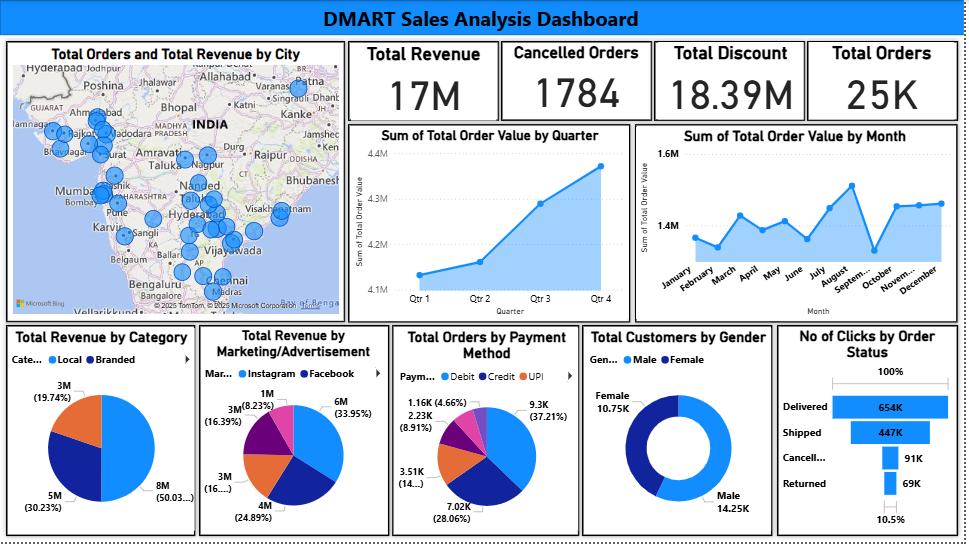

The dashboard page shown, as its layout file describes it:
{"tool":"powerbi","page":{"name":"Page 1","canvas":[1280,720],"ordinal":0},"visuals":[{"type":"shape","box":[0,0,1280.3,46.7],"z":0},{"type":"textbox","box":[42.5,0,1192.5,46.7],"z":1000},{"type":"shape","box":[0,46.7,466.6,389.7],"z":2000},{"type":"shape","box":[454.2,156.4,391.1,279.9],"z":3000},{"type":"shape","box":[835.7,156.4,444.6,279.9],"z":4000},{"type":"shape","box":[454.2,46.7,216.8,122.1],"z":5000},{"type":"shape","box":[0,424,267.6,296.4],"z":6000},{"type":"shape","box":[657.3,46.7,216.8,122.1],"z":7000},{"type":"shape","box":[860.4,46.7,216.8,122.1],"z":8000},{"type":"shape","box":[1063.5,46.7,216.8,122.1],"z":9000},{"type":"shape","box":[513.2,424,264.8,296.4],"z":10000},{"type":"shape","box":[765.7,424,269,296.4],"z":11000},{"type":"shape","box":[1023.7,424,256.6,296.4],"z":12000},{"type":"shape","box":[256.6,424,269,296.4],"z":13000},{"type":"card","title":"Total Revenue","fields":{"Values":["Sum(Dmart+Dataset_Tableau.Total Order Value)"]},"box":[466.5,56.9,193.5,102.7],"z":14000},{"type":"card","title":"Cancelled Orders","fields":{"Values":["CountNonNull(Dmart+Dataset_Tableau.Cancellation Date)"]},"box":[670.9,57,189.5,100],"z":15000},{"type":"card","title":"Total Discount","fields":{"Values":["Sum(Dmart+Dataset_Tableau.Discount Price)"]},"box":[874.1,56.3,193.5,102.9],"z":16000},{"type":"card","title":"Total Orders","fields":{"Values":["CountNonNull(Dmart+Dataset_Tableau.Order ID)"]},"box":[1074.4,56.3,193.5,102.9],"z":17000},{"type":"map","title":"Total Orders and Total Revenue by City","fields":{"Category":["Dmart+Dataset_Tableau.City"],"Size":["Sum(Dmart+Dataset_Tableau.Total Order Value)"]},"box":[11.3,60.4,443,363.5],"z":18000},{"type":"stackedAreaChart","fields":{"Y":["Sum(Dmart+Dataset_Tableau.Total Order Value)"],"Category":["Dmart+Dataset_Tableau.Order Date.Variation.Date Hierarchy.Quarter"]},"box":[466.6,168.8,369.1,255.2],"z":19000},{"type":"areaChart","fields":{"Category":["Dmart+Dataset_Tableau.Month"],"Y":["Sum(Dmart+Dataset_Tableau.Total Order Value)"]},"box":[845.3,168.8,422.6,255.2],"z":20000},{"type":"donutChart","title":"Total Customers by Gender","fields":{"Y":["CountNonNull(Dmart+Dataset_Tableau.Customer ID)"],"Category":["Dmart+Dataset_Tableau.Gender"]},"box":[778,436.4,245.6,269],"z":21000},{"type":"funnel","title":"No of Clicks by Order Status","fields":{"Y":["Sum(Dmart+Dataset_Tableau.No of Clicks)"],"Category":["Dmart+Dataset_Tableau.Order Status"]},"box":[1034.7,435,234.6,270.3],"z":22000},{"type":"pieChart","title":"Total Orders by Payment Method","fields":{"Y":["CountNonNull(Dmart+Dataset_Tableau.Order ID)"],"Category":["Dmart+Dataset_Tableau.Payment Method"]},"box":[525.6,436.4,241.5,269],"z":23000},{"type":"pieChart","title":"Total Revenue by Category","fields":{"Y":["Sum(Dmart+Dataset_Tableau.Total Order Value)"],"Category":["Dmart+Dataset_Tableau.Category"]},"box":[11,436.4,248.4,269],"z":24000},{"type":"pieChart","title":"Total Revenue by Marketing/Advertisement","fields":{"Y":["Sum(Dmart+Dataset_Tableau.Total Order Value)"],"Category":["Dmart+Dataset_Tableau.Marketing/Advertisement"]},"box":[267.6,435,245.6,270.3],"z":25000}]}

Visuals, with their boxes in screenshot pixels (x1, y1, x2, y2), scaled from the page's 1280x720 canvas onto the 969x546 screenshot:
shape: detection(0, 0, 968, 35)
textbox: detection(32, 0, 935, 35)
shape: detection(0, 35, 353, 331)
shape: detection(344, 119, 640, 331)
shape: detection(633, 119, 968, 331)
shape: detection(344, 35, 508, 128)
shape: detection(0, 322, 203, 545)
shape: detection(498, 35, 662, 128)
shape: detection(651, 35, 815, 128)
shape: detection(805, 35, 968, 128)
shape: detection(389, 322, 589, 545)
shape: detection(580, 322, 783, 545)
shape: detection(775, 322, 968, 545)
shape: detection(194, 322, 398, 545)
"Total Revenue" card: detection(353, 43, 500, 121)
"Cancelled Orders" card: detection(508, 43, 651, 119)
"Total Discount" card: detection(662, 43, 808, 121)
"Total Orders" card: detection(813, 43, 960, 121)
"Total Orders and Total Revenue by City" map: detection(9, 46, 344, 321)
stackedAreaChart - Sum(Dmart+Dataset_Tableau.Total Order Value) x Dmart+Dataset_Tableau.Order Date.Variation.Date Hierarchy.Quarter: detection(353, 128, 633, 322)
areaChart - Dmart+Dataset_Tableau.Month x Sum(Dmart+Dataset_Tableau.Total Order Value): detection(640, 128, 960, 322)
"Total Customers by Gender" donutChart: detection(589, 331, 775, 535)
"No of Clicks by Order Status" funnel: detection(783, 330, 961, 535)
"Total Orders by Payment Method" pieChart: detection(398, 331, 581, 535)
"Total Revenue by Category" pieChart: detection(8, 331, 196, 535)
"Total Revenue by Marketing/Advertisement" pieChart: detection(203, 330, 389, 535)
